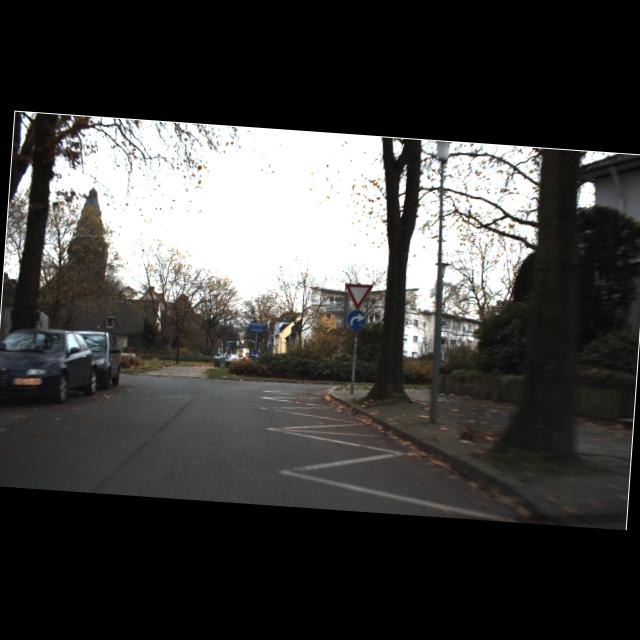mandatory: (346, 308, 366, 330), (248, 349, 260, 362)
other: (343, 282, 373, 309)
